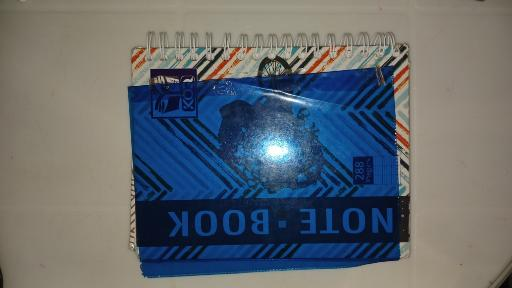notebook: (132, 31, 413, 262)
